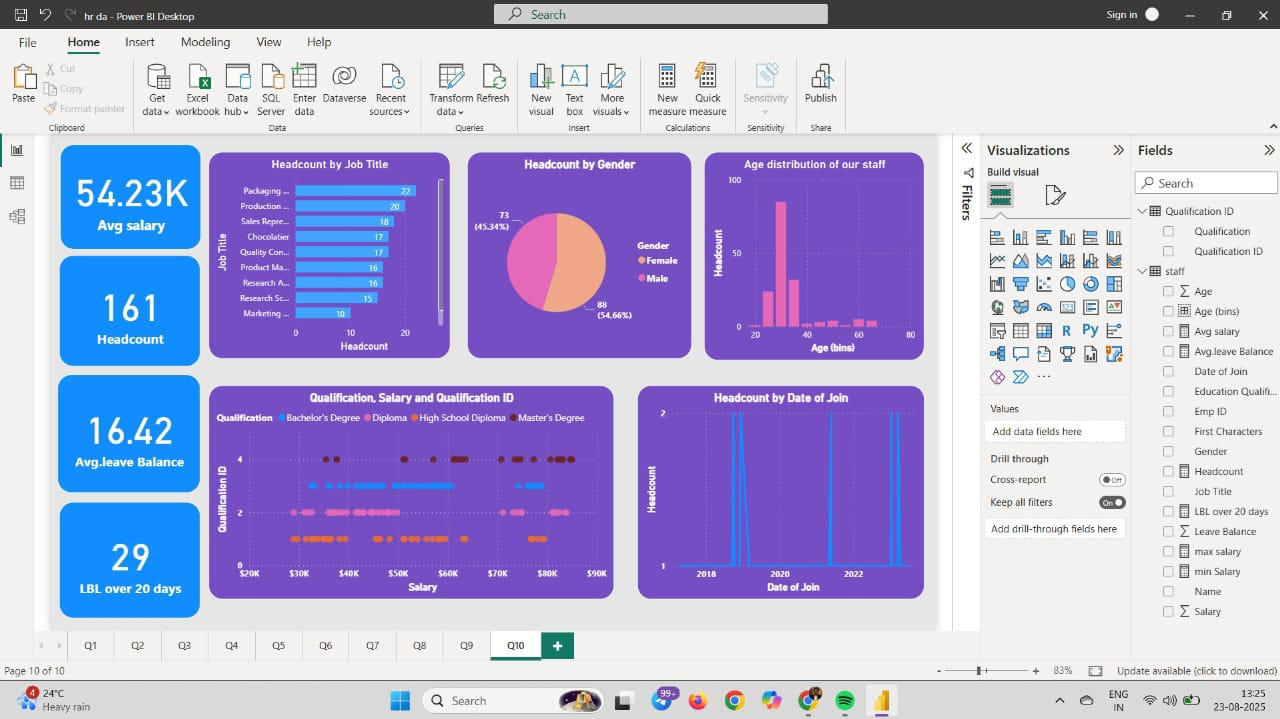

The dashboard page shown, as its layout file describes it:
{"tool":"powerbi","page":{"name":"Q10","canvas":[1280,720],"ordinal":9},"visuals":[{"type":"card","fields":{"Values":["staff.Headcount"]},"box":[12.1,176.1,203.8,160.4],"z":0},{"type":"card","fields":{"Values":["staff.Avg salary"]},"box":[13.3,15.7,203.8,152],"z":1},{"type":"card","fields":{"Values":["staff.Avg.leave Balance"]},"box":[9.6,348.5,206.2,171.3],"z":2},{"type":"card","fields":{"Values":["staff.LBL over 20 days"]},"box":[12.1,533.1,203.8,167.6],"z":3},{"type":"clusteredBarChart","fields":{"Category":["staff.Job Title"],"Y":["staff.Headcount"]},"box":[227.9,26.5,349.7,299.1],"z":4},{"type":"pieChart","fields":{"Category":["staff.Gender"],"Y":["staff.Headcount"]},"box":[601.8,26.5,324.4,299.1],"z":5},{"type":"columnChart","title":" Age distribution of our staff","fields":{"Category":["staff.Age (bins)"],"Y":["staff.Headcount"]},"box":[944.3,26.5,318.4,301.5],"z":6},{"type":"scatterChart","fields":{"X":["staff.Salary"],"Y":["Qualification ID.Qualification ID"],"Series":["Qualification ID.Qualification"]},"box":[227.9,364.2,586.1,309.9],"z":7},{"type":"lineChart","fields":{"Category":["staff.Date of Join"],"Y":["staff.Headcount"]},"box":[847.8,364.2,414.9,309.9],"z":8}]}

Visuals, with their boxes on the page's 1280x720 design canvas (x1, y1, x2, y2). These are canvas units, not pixel positions in the 1280x719 screenshot, which may show the page scaled, cropped or inside an application window:
card - staff.Headcount: {"x1": 12, "y1": 176, "x2": 216, "y2": 336}
card - staff.Avg salary: {"x1": 13, "y1": 16, "x2": 217, "y2": 168}
card - staff.Avg.leave Balance: {"x1": 10, "y1": 348, "x2": 216, "y2": 520}
card - staff.LBL over 20 days: {"x1": 12, "y1": 533, "x2": 216, "y2": 701}
clusteredBarChart - staff.Job Title x staff.Headcount: {"x1": 228, "y1": 26, "x2": 578, "y2": 326}
pieChart - staff.Gender x staff.Headcount: {"x1": 602, "y1": 26, "x2": 926, "y2": 326}
" Age distribution of our staff" columnChart: {"x1": 944, "y1": 26, "x2": 1263, "y2": 328}
scatterChart - staff.Salary x Qualification ID.Qualification ID: {"x1": 228, "y1": 364, "x2": 814, "y2": 674}
lineChart - staff.Date of Join x staff.Headcount: {"x1": 848, "y1": 364, "x2": 1263, "y2": 674}
